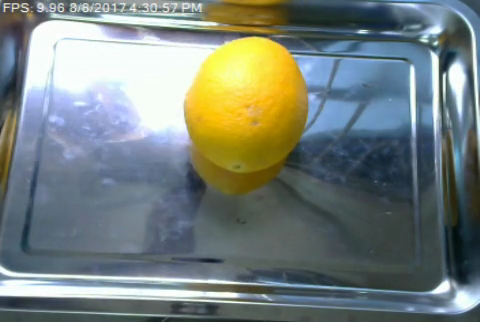Orange: (184, 37, 308, 174)
